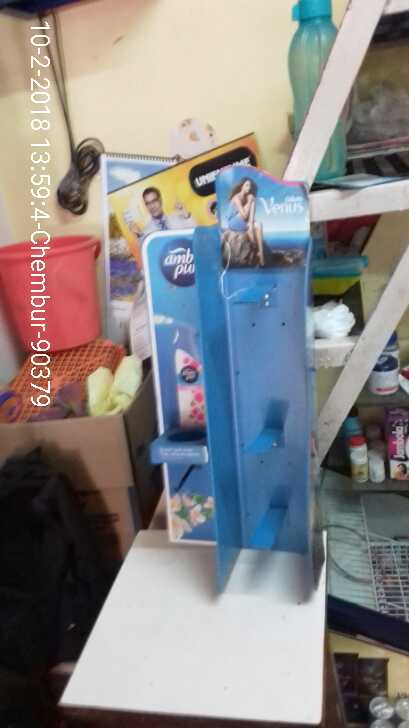reject: (97, 292, 269, 436)
